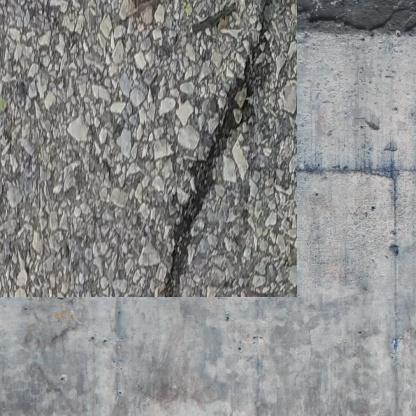Cracks: (150, 0, 272, 274)
